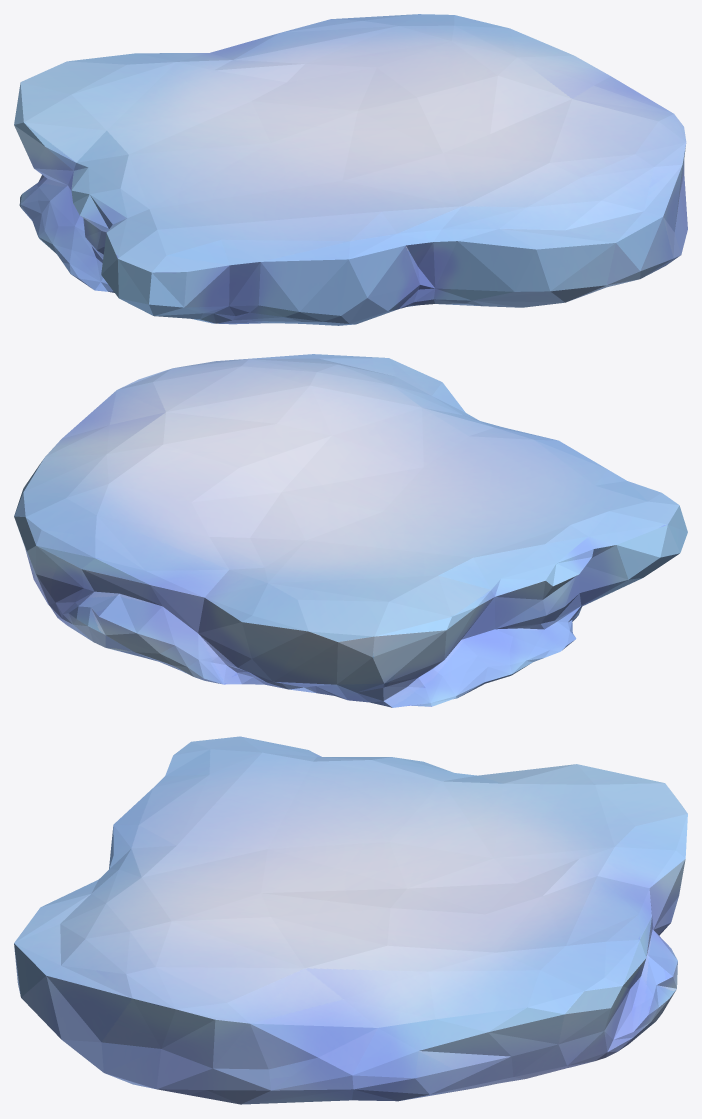
The model's file is cloud.fbx.
3 renders of one model, top to bottom at view 1: azimuth 30°, elevation 25°; view 2: azimuth 150°, elevation 25°; view 3: azimuth 270°, elevation 25°, orthographic. The views are drawn at different scales.
Parts seen in each view (by area): view 1: Cube; view 2: Cube; view 3: Cube.
Part boxes in pixels (x1,y1,x2,y2): Cube: [14, 14, 687, 325]; Cube: [14, 354, 687, 707]; Cube: [14, 736, 687, 1104].
Bounding box in the file's own units: 741 × 128 × 686.
1 material, 1 textured.
